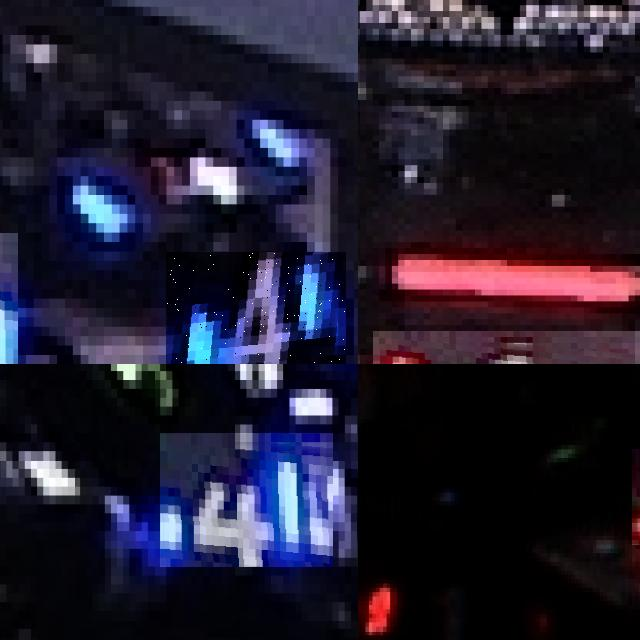B4: (160, 433, 333, 567), (166, 251, 345, 364)
R1: (372, 331, 640, 364)
